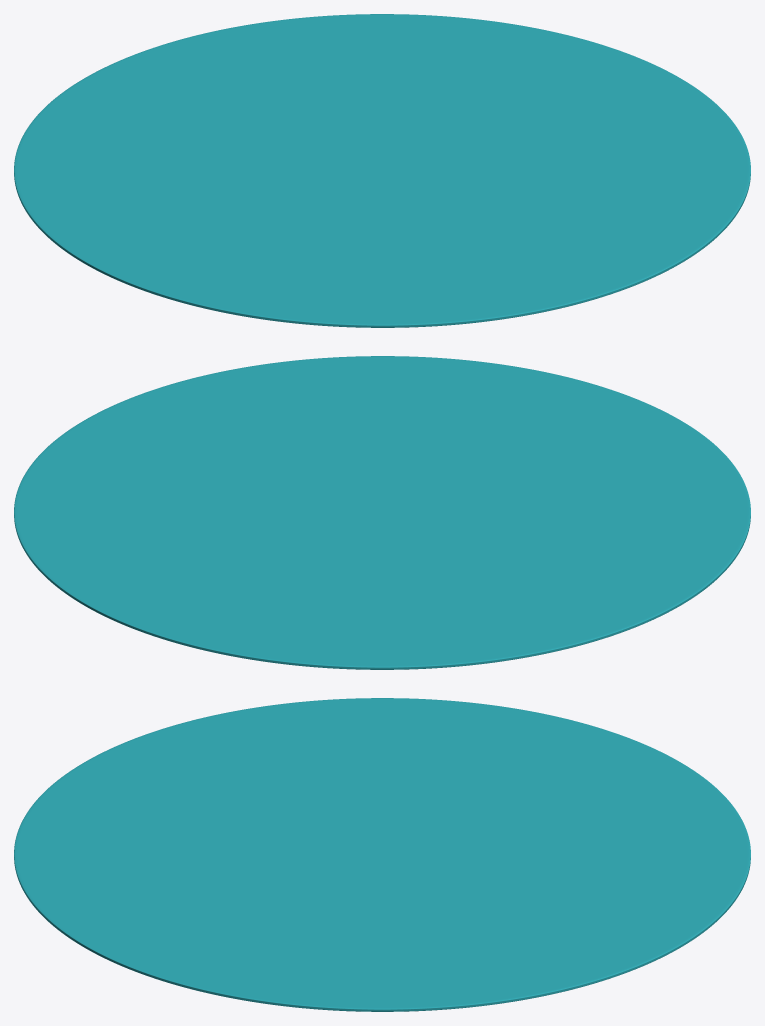
The model's file is Stage.fbx.
The picture shows the model from 3 angles, top to bottom: view 1: azimuth 30°, elevation 25°; view 2: azimuth 150°, elevation 25°; view 3: azimuth 270°, elevation 25°; orthographic projection.
Parts seen in each view (by area): view 1: Cylinder; view 2: Cylinder; view 3: Cylinder.
Boxes of the visible parts, <box> form: Cylinder: <box>14,14,750,327</box>; Cylinder: <box>14,356,750,669</box>; Cylinder: <box>14,698,750,1011</box>.
Bounding box in the file's own units: 1498 × 7 × 1498.
